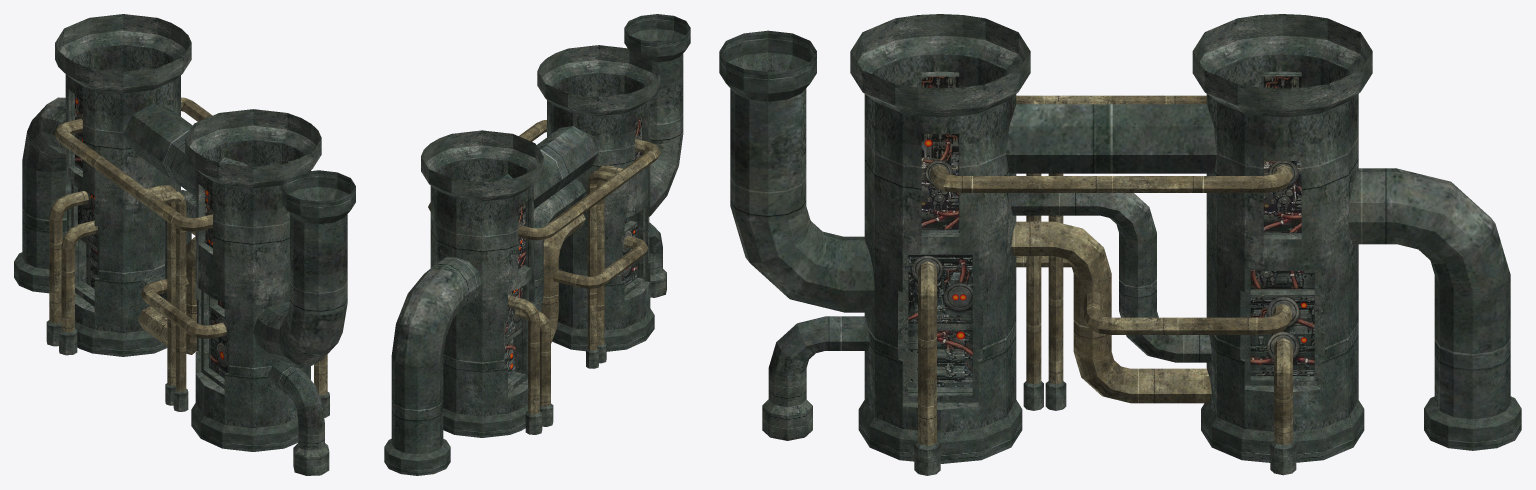
The model's file is bunker_mine_pipes_s02_l1.fbx.
The picture shows the model from 3 angles, left to right: view 1: azimuth 30°, elevation 25°; view 2: azimuth 150°, elevation 25°; view 3: azimuth 270°, elevation 25°; orthographic projection. The views are drawn at different scales.
Parts seen in each view (by area): view 1: mesh_node; view 2: mesh_node; view 3: mesh_node.
Part boxes in pixels (x1,y1,x2,y2): mesh_node: [14, 14, 355, 475]; mesh_node: [384, 14, 690, 475]; mesh_node: [719, 14, 1521, 475].
Size of the model in its own units: 2.88 by 5.5 by 10.55.
